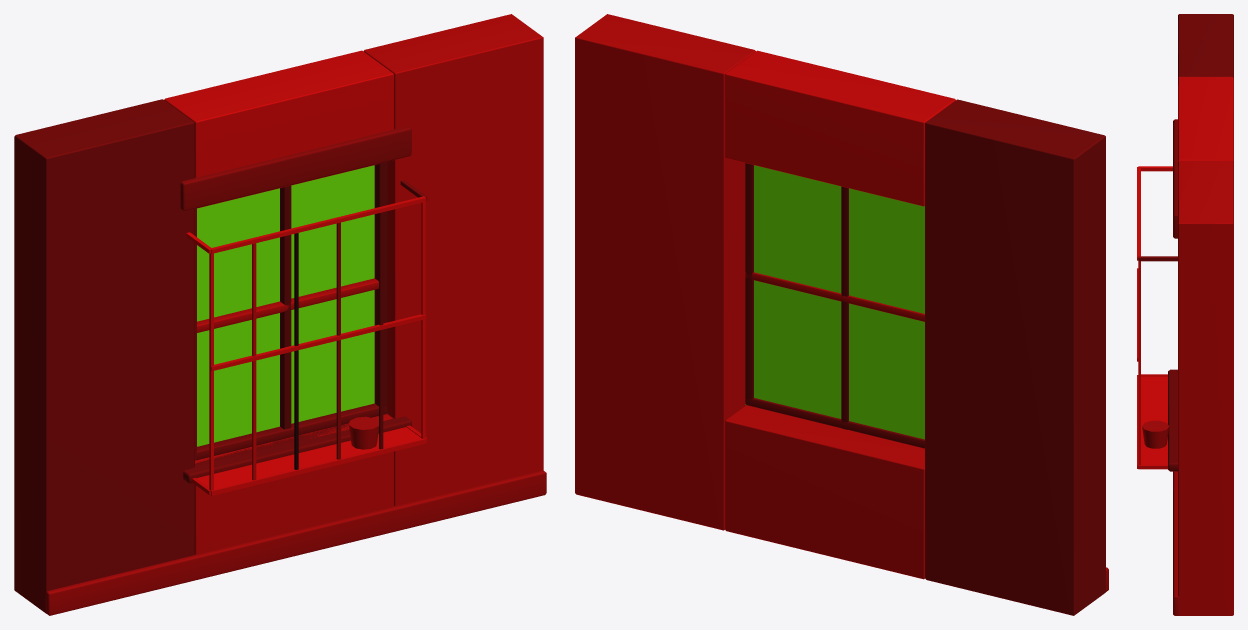
The model's file is fac_brick_a.glb.
3 renders of one model, left to right at view 1: azimuth 30°, elevation 25°; view 2: azimuth 150°, elevation 25°; view 3: azimuth 270°, elevation 25°, orthographic. The views are drawn at different scales.
Parts seen in each view (by area): view 1: fac_brick_a; view 2: fac_brick_a; view 3: fac_brick_a.
Part boxes in pixels (box(x1,y1,x2,y2)): fac_brick_a: box(14, 14, 546, 615); fac_brick_a: box(575, 14, 1108, 615); fac_brick_a: box(1137, 14, 1233, 615).
Bounding box in the file's own units: 4 × 3.5 × 0.78.
